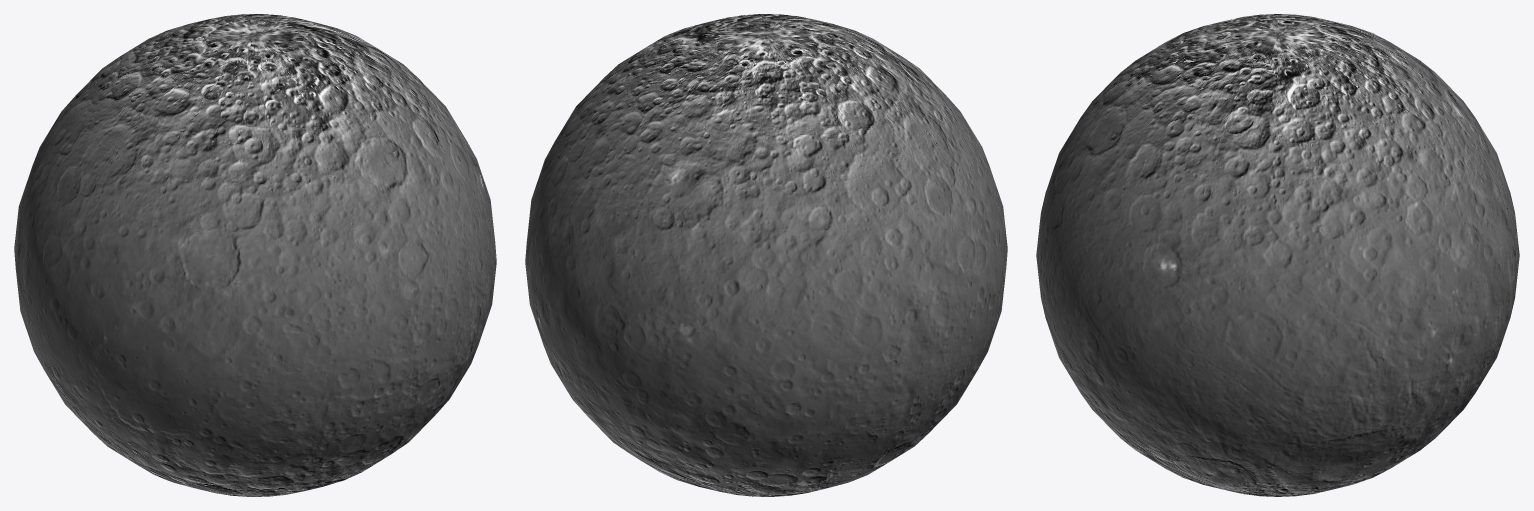
The model's file is ceres_hi_res.fbx.
3 renders of one model, left to right at view 1: azimuth 30°, elevation 25°; view 2: azimuth 150°, elevation 25°; view 3: azimuth 270°, elevation 25°, orthographic.
Parts seen in each view (by area): view 1: Sphere; view 2: Sphere; view 3: Sphere.
Part boxes in pixels (x1=…): Sphere: x1=14, y1=14, x2=496, y2=496; Sphere: x1=525, y1=14, x2=1007, y2=496; Sphere: x1=1036, y1=14, x2=1519, y2=496.
Size of the model in its own units: 200 by 201 by 200.
